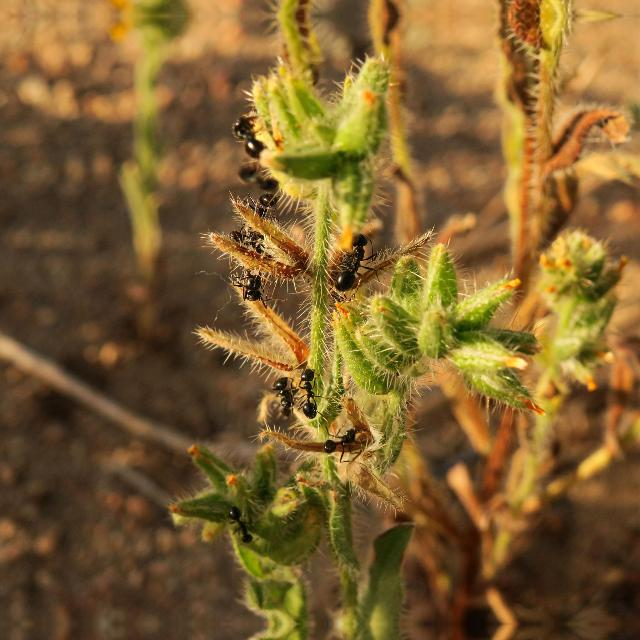Messor: (335, 232, 375, 290), (318, 417, 368, 457), (298, 363, 328, 427), (236, 111, 274, 157), (220, 499, 256, 545), (266, 369, 292, 419)
